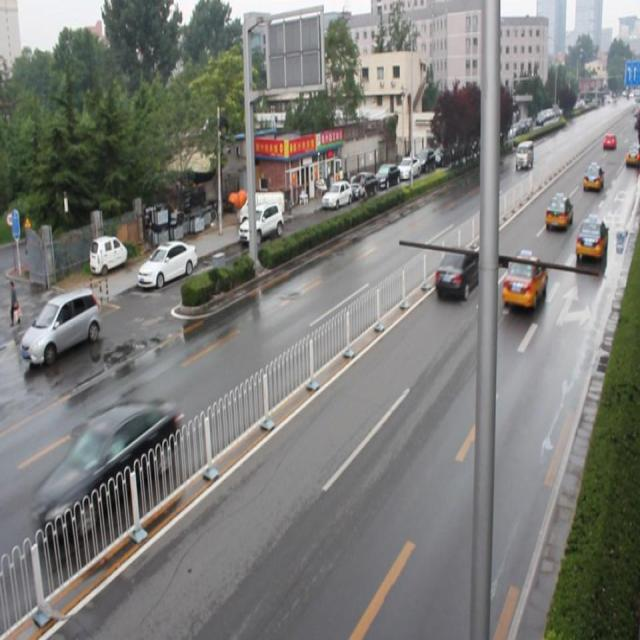car: (35, 401, 175, 541), (502, 252, 545, 310), (433, 245, 480, 295), (575, 218, 606, 264), (542, 192, 571, 228)
